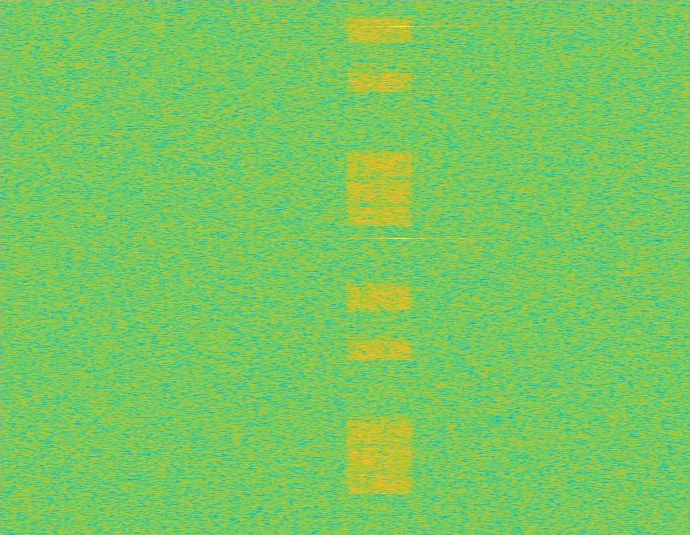LTE: (345, 0, 414, 534)
Radar: (394, 0, 408, 534)
